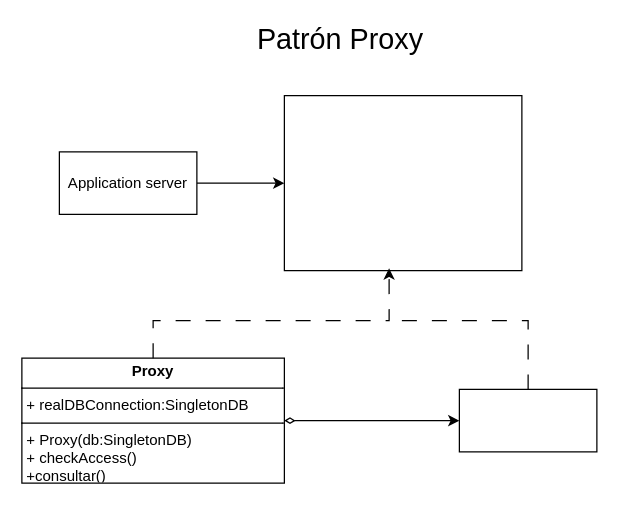
Image size: 619x505. Some labels were removed from this diagram. Each missing label, with the centre of its shape:
<<Interface>> DBInterfaz + consultar(): the point at 402,182
SingletonDB: the point at 527,420
